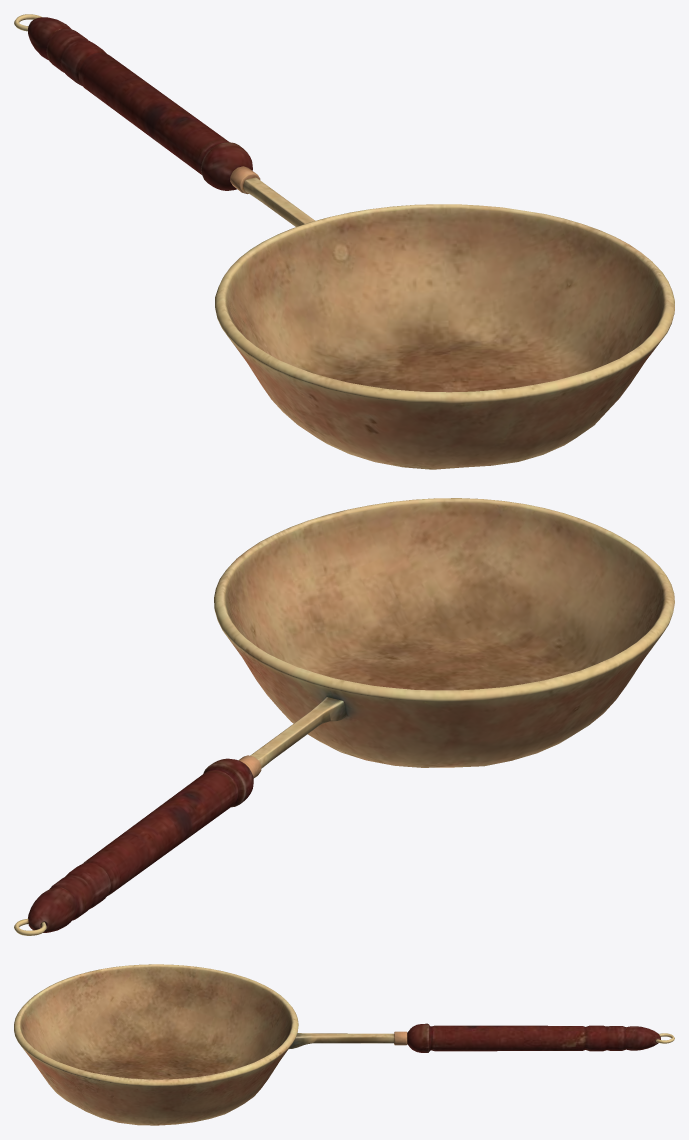
File: brass_pan_01.glb
3 renders of one model, top to bottom at view 1: azimuth 30°, elevation 25°; view 2: azimuth 150°, elevation 25°; view 3: azimuth 270°, elevation 25°, orthographic. The views are drawn at different scales.
Visible parts, largest first — view 1: brass_pan_01; view 2: brass_pan_01; view 3: brass_pan_01.
Part boxes in pixels (x1,y1,x2,y2): brass_pan_01: [14, 14, 674, 469]; brass_pan_01: [14, 498, 674, 935]; brass_pan_01: [14, 964, 674, 1125].
Size of the model in its own units: 0.1913 by 0.0525 by 0.4497.
Materials: 1 (1 with a texture image).
